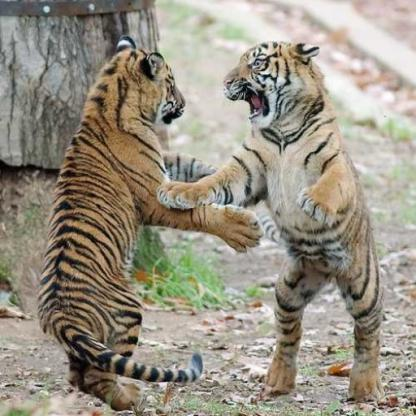Tiger: (205, 12, 390, 390), (41, 18, 202, 404)
